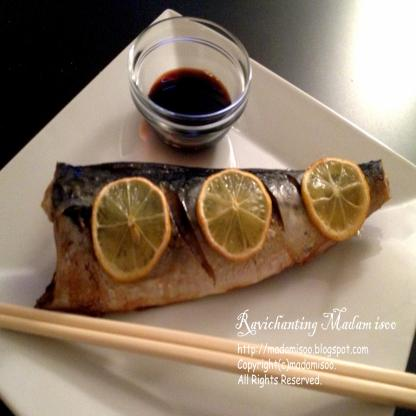Peixe: (25, 146, 394, 323)
